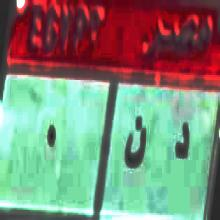0: (45, 117, 57, 157)
daal: (172, 115, 191, 172)
noon: (123, 106, 146, 183)
